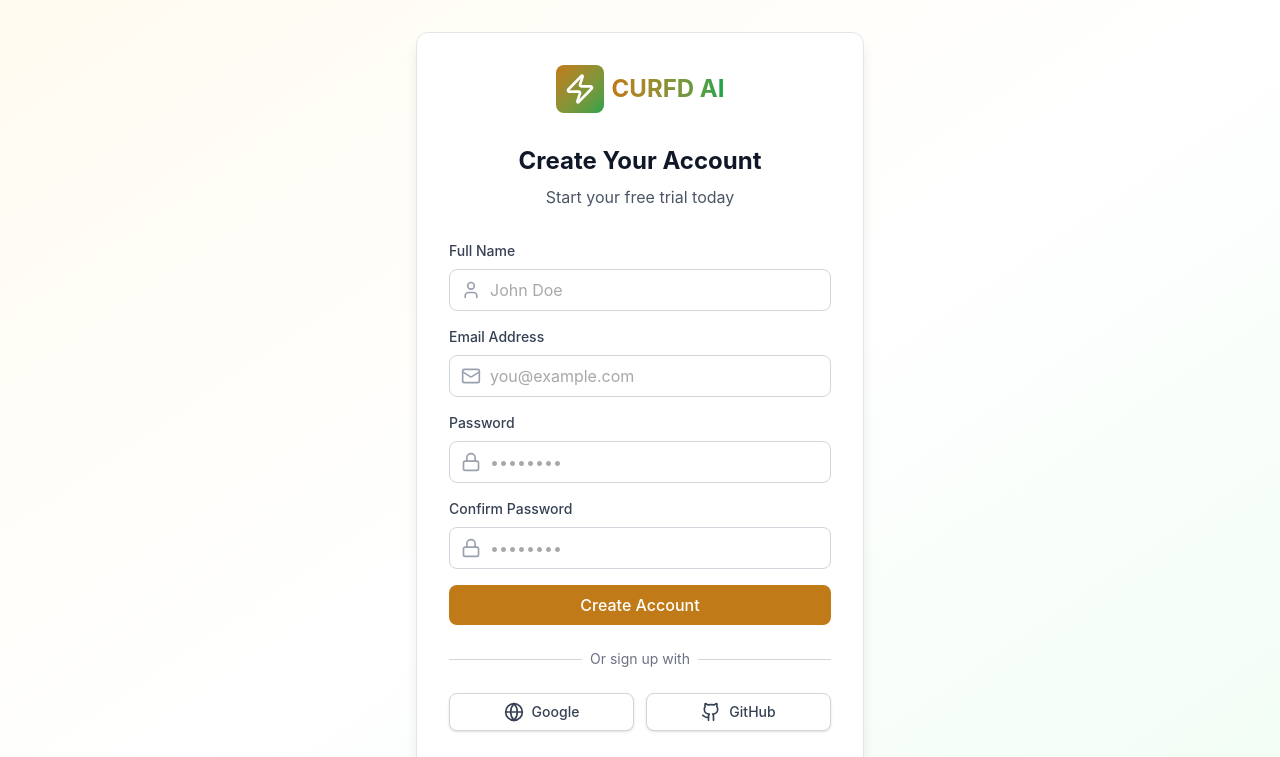
Test: Auth Pages › SignUpPage › validates password match
Type "John" into the field with placeholder "John Doe" at (640, 290), box [449, 269, 831, 311]
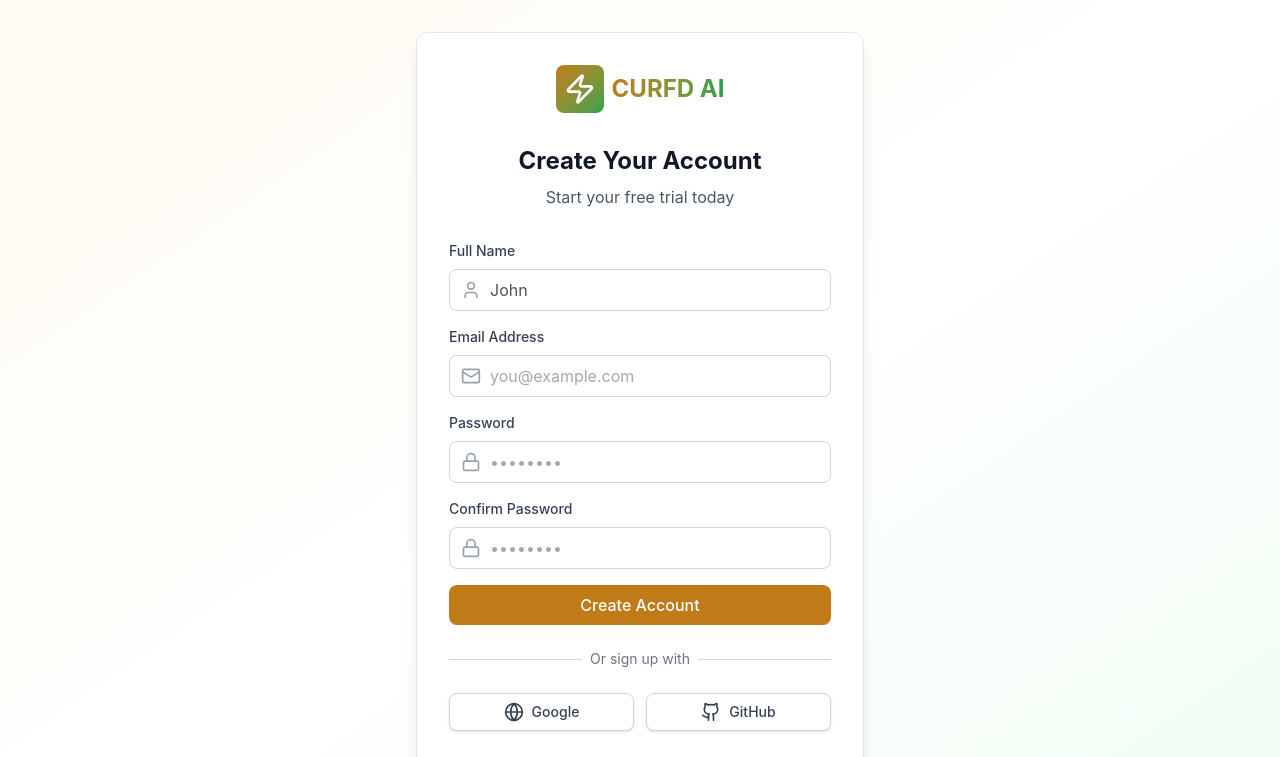
Type "test@test.com" into the field with placeholder "you@example.com" at (640, 376), box [449, 355, 831, 397]
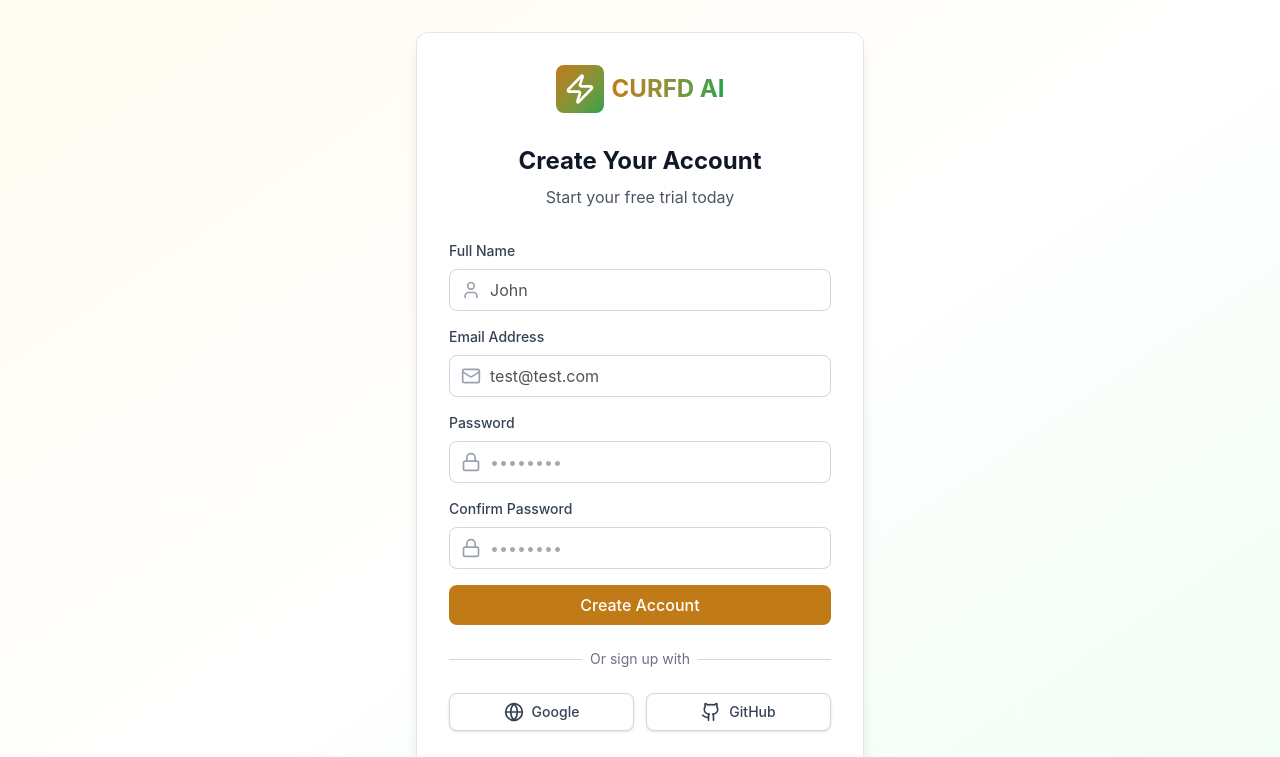
# Mismatched passwords
Type "123456" into the password field with placeholder "••••••••" at (640, 462), box [449, 441, 831, 483]
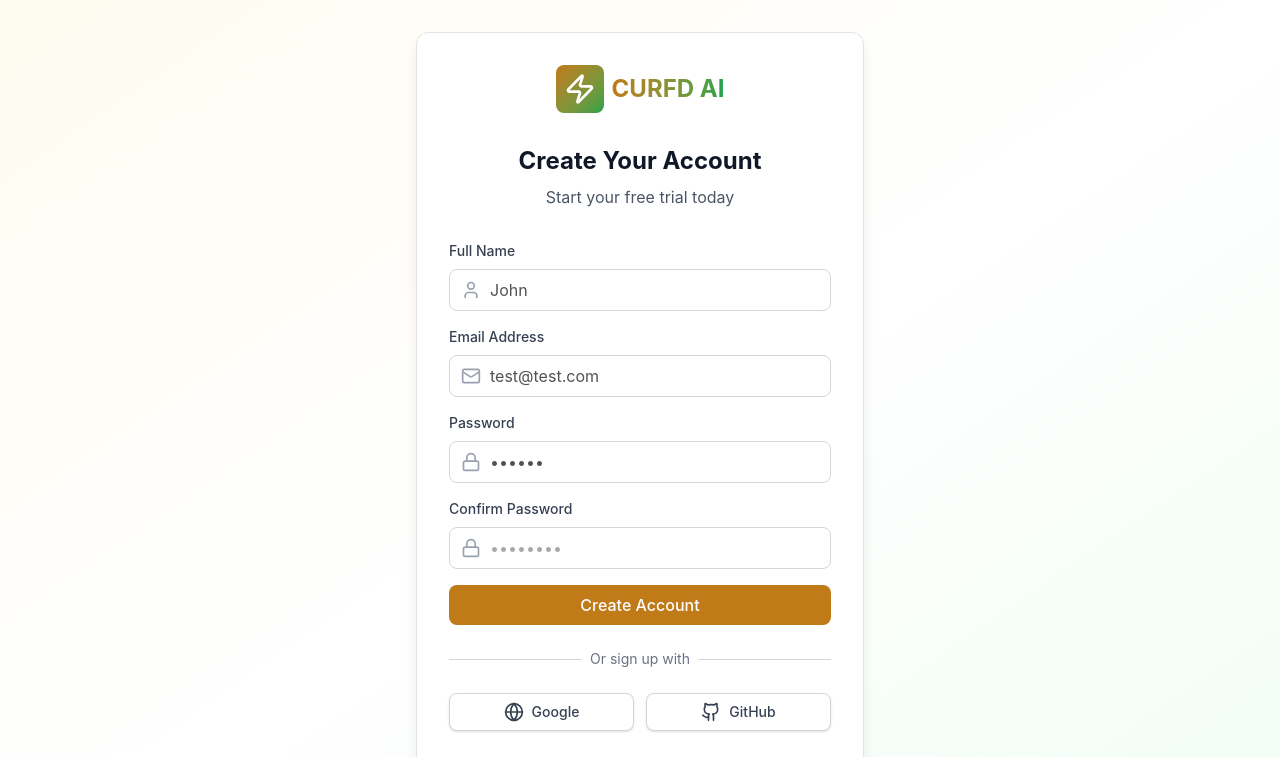
Type "654321" into the password field with placeholder "••••••••" at (640, 548), box [449, 527, 831, 569]
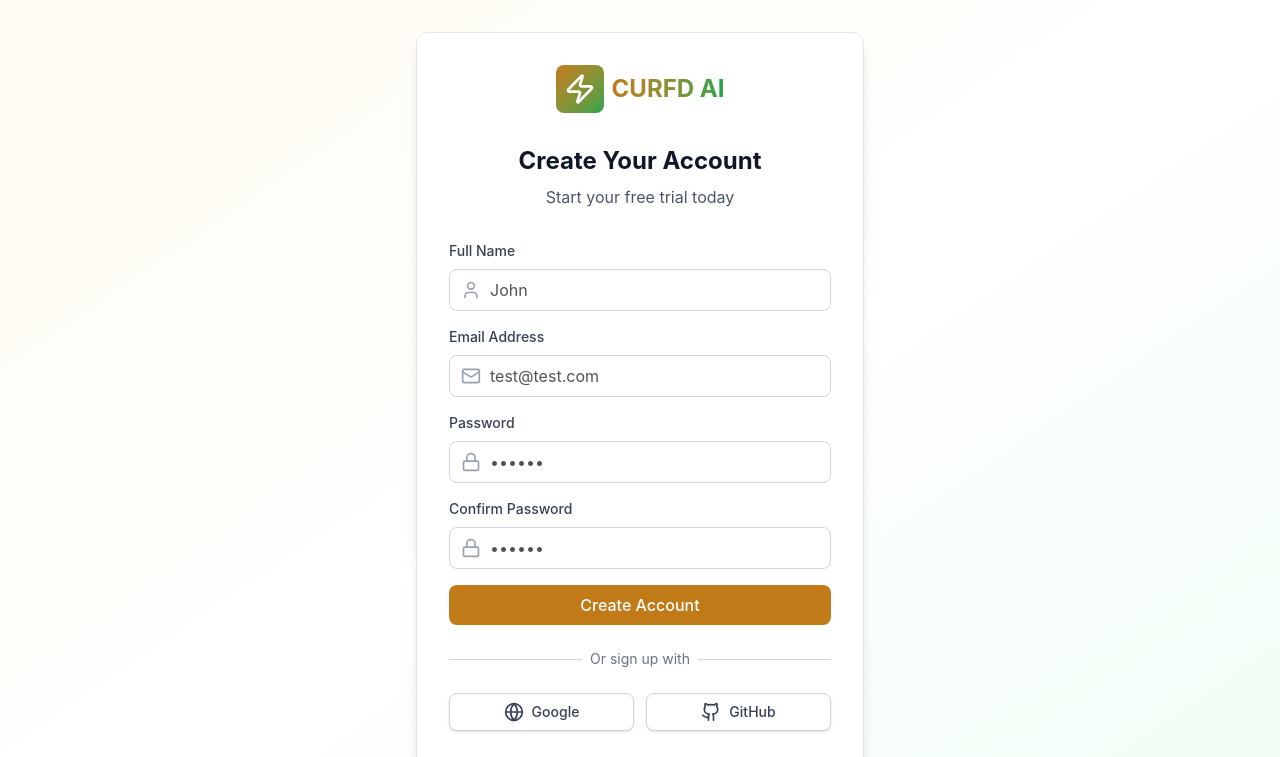
Click the button "Create Account" at (640, 605), box [449, 585, 831, 625]
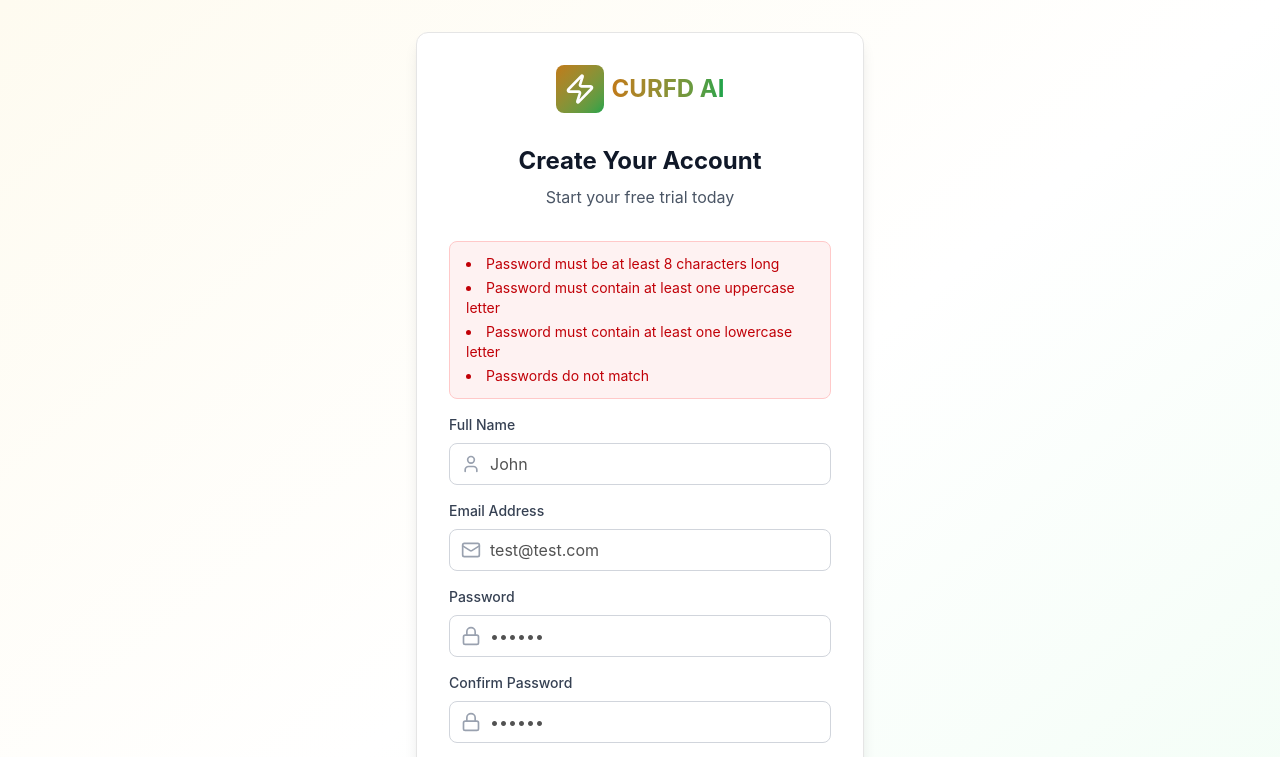
Now the list item "Passwords do not match" is shown, box [486, 367, 649, 384]
